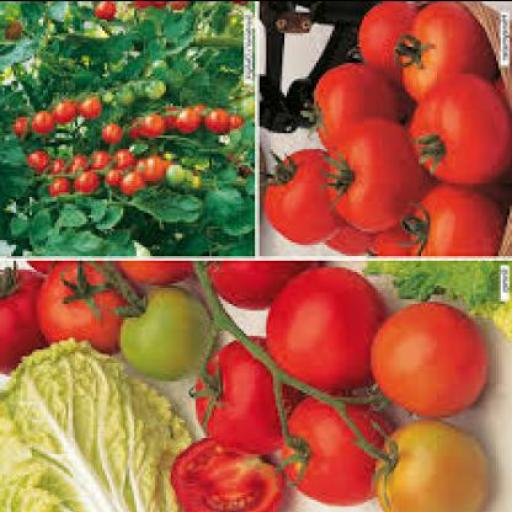biodegradable: (0, 334, 192, 510), (264, 268, 387, 386), (368, 298, 486, 412), (192, 335, 302, 450), (405, 71, 509, 184), (281, 396, 389, 502), (360, 260, 510, 332), (371, 414, 482, 510), (326, 116, 416, 225), (32, 257, 134, 351), (396, 4, 496, 96), (168, 430, 282, 510), (118, 279, 209, 378), (305, 62, 403, 148), (398, 182, 505, 255), (262, 148, 341, 241), (196, 258, 316, 307), (1, 264, 52, 374), (357, 1, 417, 73), (110, 258, 190, 284), (323, 223, 377, 252), (370, 225, 410, 255), (202, 102, 232, 132), (28, 104, 52, 132), (173, 106, 200, 128), (51, 98, 75, 122), (142, 153, 164, 177), (112, 78, 134, 102), (71, 169, 98, 188), (119, 166, 141, 188), (87, 146, 109, 168), (142, 112, 164, 134), (75, 92, 100, 111), (89, 1, 114, 20), (185, 100, 214, 116), (110, 145, 132, 164), (126, 115, 148, 134), (162, 100, 181, 122), (9, 116, 34, 132), (142, 78, 164, 96), (98, 121, 120, 139), (164, 162, 184, 181), (51, 175, 70, 194), (46, 153, 66, 171), (25, 148, 45, 166), (182, 169, 198, 188), (71, 153, 87, 171), (228, 109, 244, 125), (102, 169, 121, 182), (2, 20, 14, 34), (167, 0, 186, 7), (128, 0, 148, 5), (148, 0, 164, 5)
